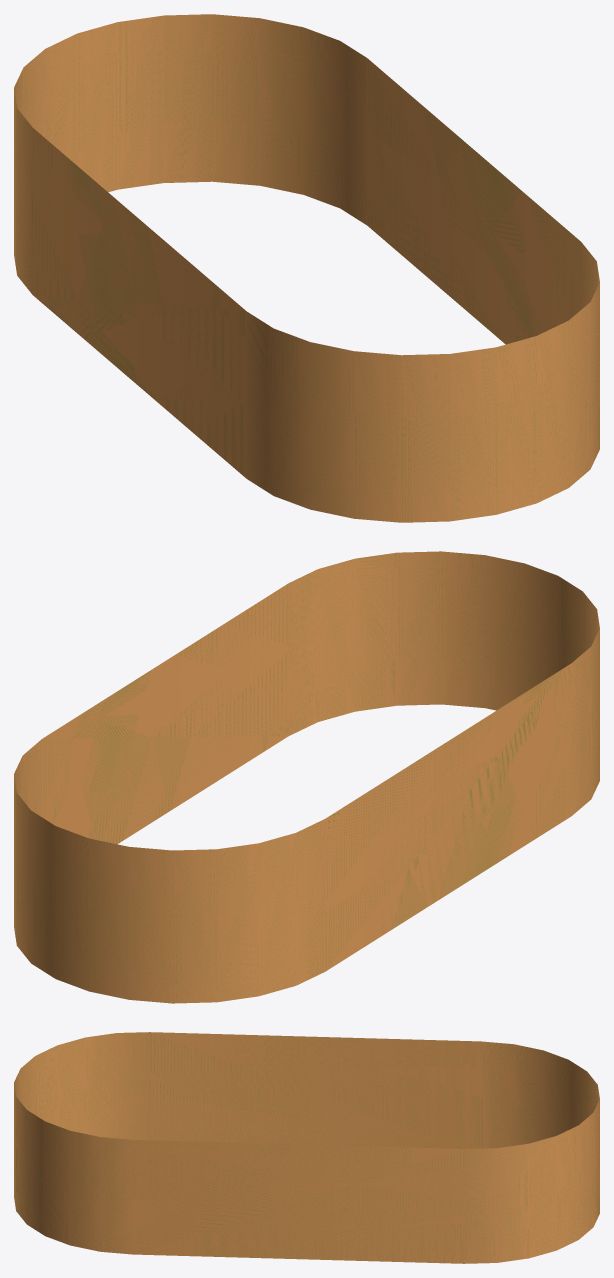
Rendered from original-83.obj.
The picture shows the model from 3 angles, top to bottom: view 1: azimuth 30°, elevation 25°; view 2: azimuth 150°, elevation 25°; view 3: azimuth 270°, elevation 25°; orthographic projection. The views are drawn at different scales.
Visible parts, largest first — view 1: 3dw.47c68395a5775e10d9deb3f829cc2475/Model/Component_18_1/Compon; view 2: 3dw.47c68395a5775e10d9deb3f829cc2475/Model/Component_18_1/Compon; view 3: 3dw.47c68395a5775e10d9deb3f829cc2475/Model/Component_18_1/Compon.
Part boxes in pixels (bbox=[...]): 3dw.47c68395a5775e10d9deb3f829cc2475/Model/Component_18_1/Compon: bbox=[14, 14, 599, 522]; 3dw.47c68395a5775e10d9deb3f829cc2475/Model/Component_18_1/Compon: bbox=[14, 551, 599, 1003]; 3dw.47c68395a5775e10d9deb3f829cc2475/Model/Component_18_1/Compon: bbox=[14, 1032, 599, 1263].
Bounding box in the file's own units: 0.0236 × 0.0108 × 0.0499.
